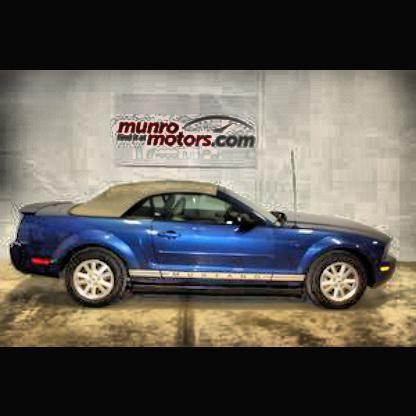Ford Mustang Convertible 2007: (8, 158, 397, 311)
